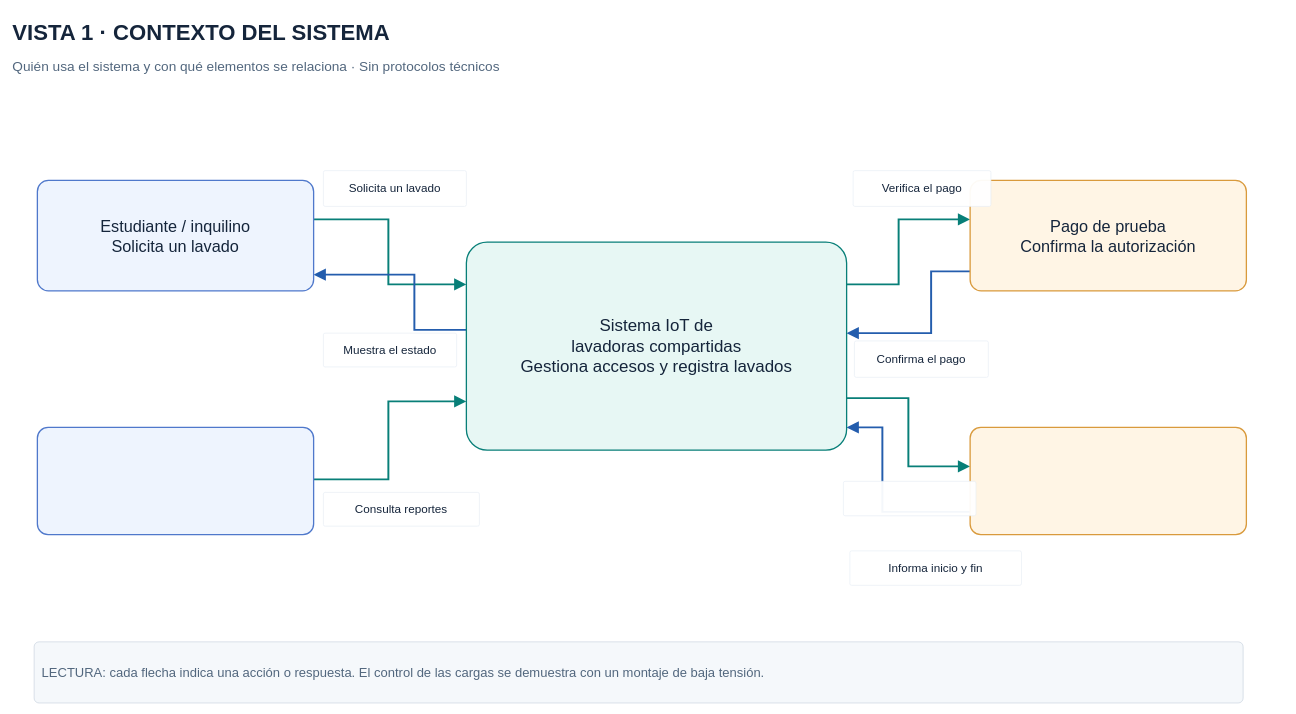
Image size: 1296x714. Some labels were removed from this diagram. The shapes that lost their labels are listed below. From the top down, each one's centre as x and y in pixels, then its label:
[175,480]: Arrendador Revisa los ciclos registrados
[909,498]: Habilita el uso
[1108,480]: Lavadora / carga de prueba Recibe la orden de activación
